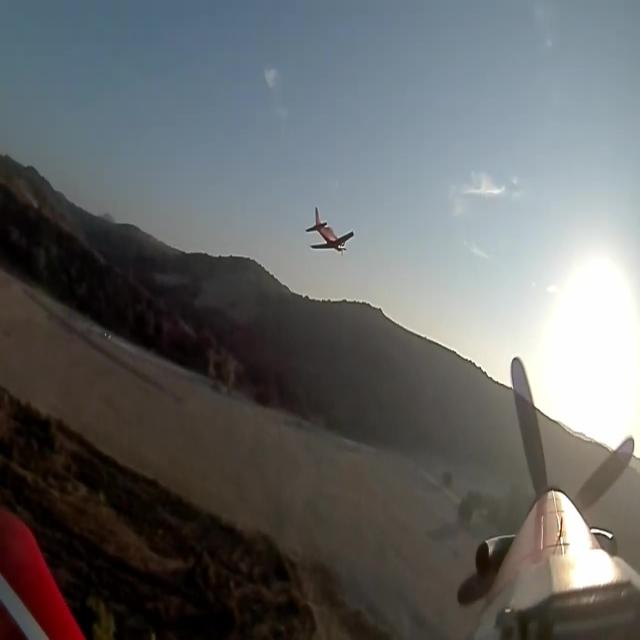iha: (299, 205, 348, 256)
